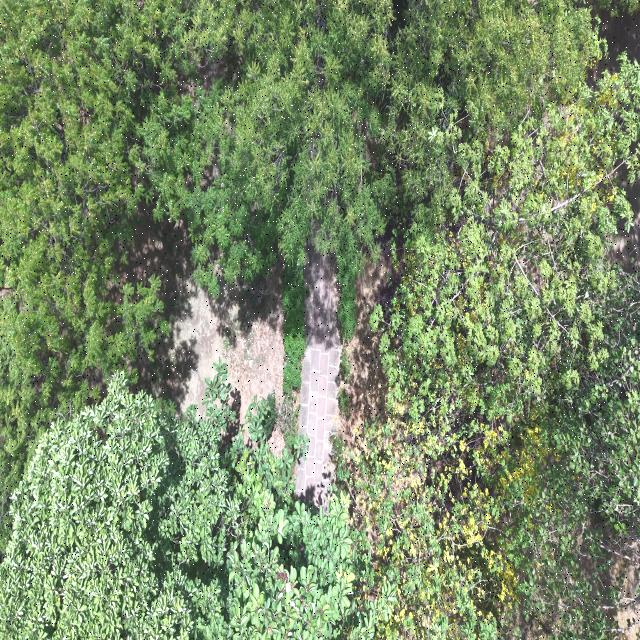DRY_AREA: (118, 206, 283, 429), (118, 205, 283, 420), (119, 216, 283, 426), (124, 220, 283, 421), (296, 247, 392, 506), (174, 267, 283, 424), (175, 269, 283, 423), (176, 279, 283, 421), (334, 241, 398, 474), (341, 246, 397, 444), (296, 344, 341, 505), (610, 164, 639, 272), (610, 165, 639, 272), (610, 165, 639, 271), (610, 538, 639, 639)
PATHWAYS: (296, 246, 341, 507)
VEGETATION_TREE: (0, 0, 639, 639), (0, 1, 392, 490), (339, 2, 639, 639), (350, 60, 639, 639), (143, 0, 601, 338), (0, 364, 385, 639), (142, 1, 393, 335), (0, 1, 169, 495)
